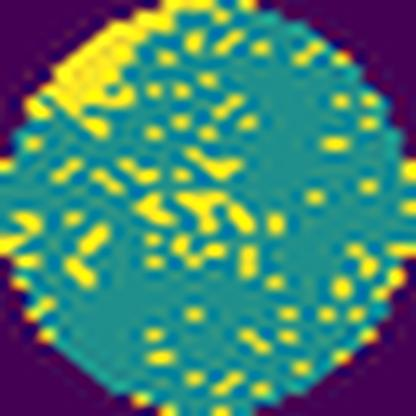Edge-Loc: (25, 0, 215, 142)
